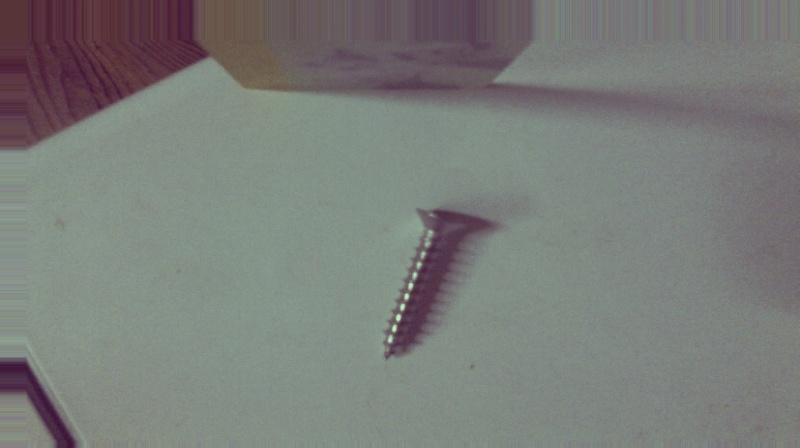S001: (379, 205, 464, 361)
